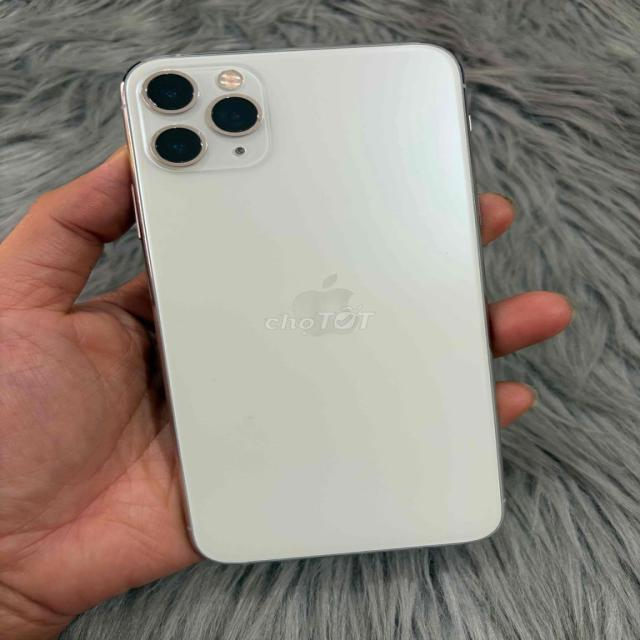physical_damage: (411, 39, 476, 117), (117, 56, 140, 85)
scratch: (140, 65, 280, 164)
